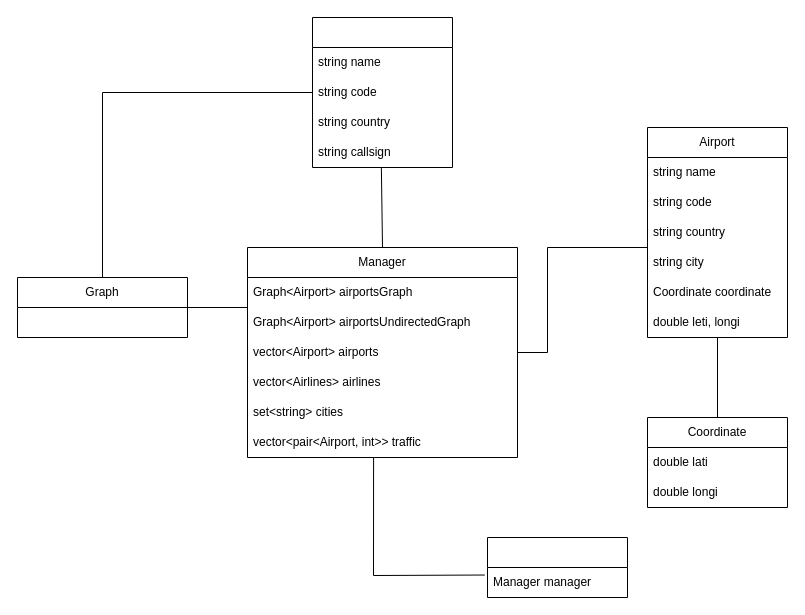
Some shapes in this 805 by 615 pixel diagram are drawn without their labels. Here are the shapes that lost their labels. From the top down, the box of each, then its label:
(312, 16, 452, 168): Airlines
(486, 536, 628, 598): Menu
